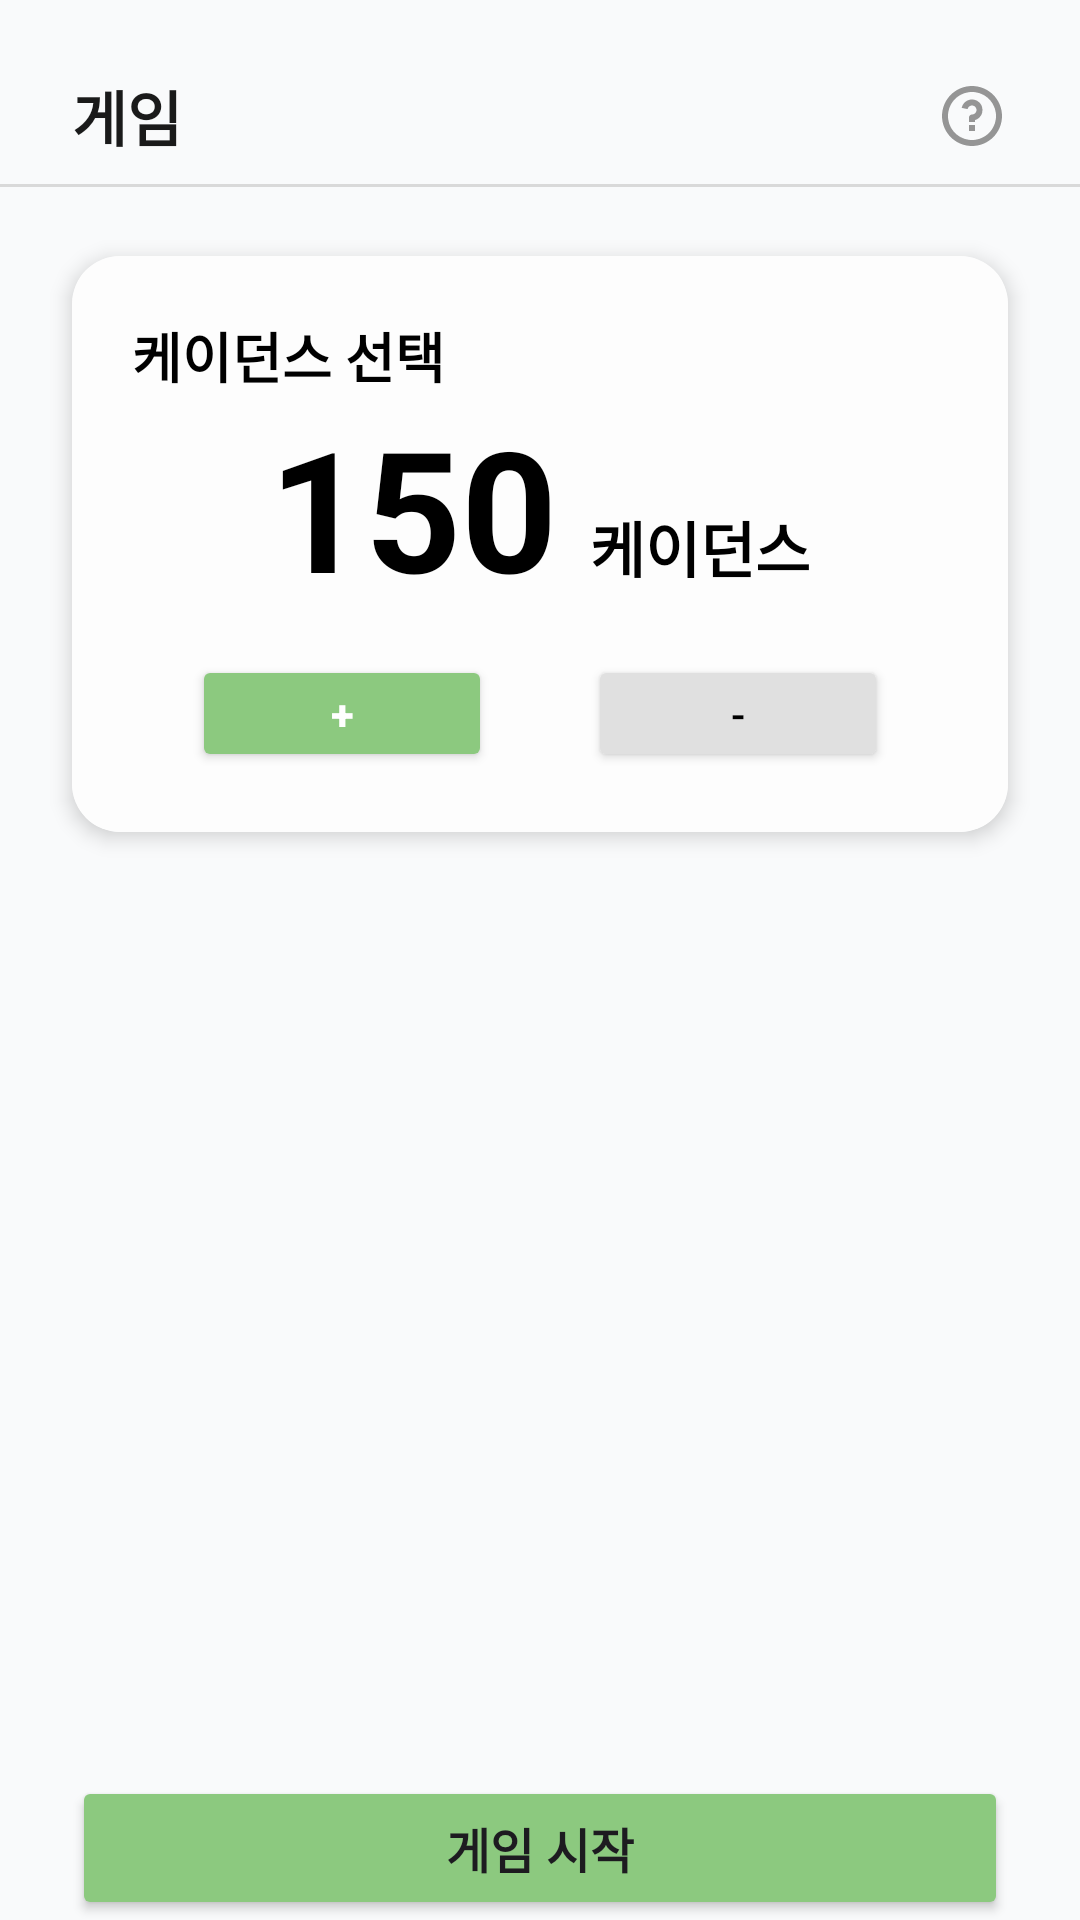

Where icons sit on this 1080w x 1920h app screen, as box=[x1, y1, x2, y2]:
ri question line: box=[942, 86, 1002, 146]
